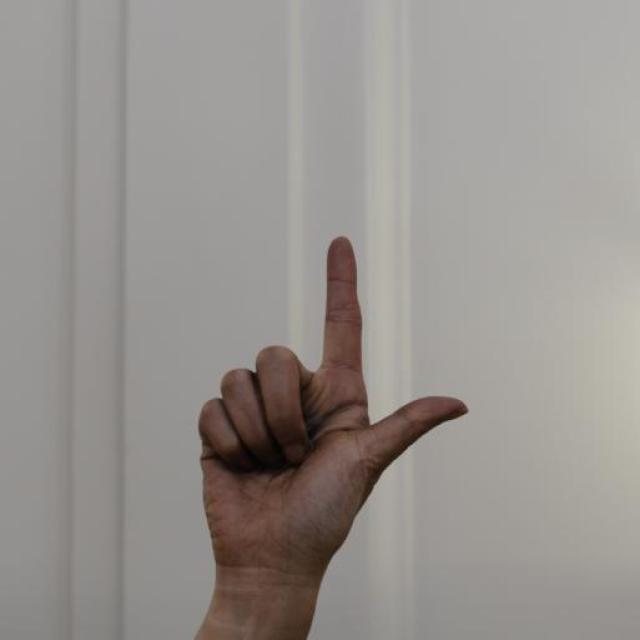L: (196, 232, 474, 562)
